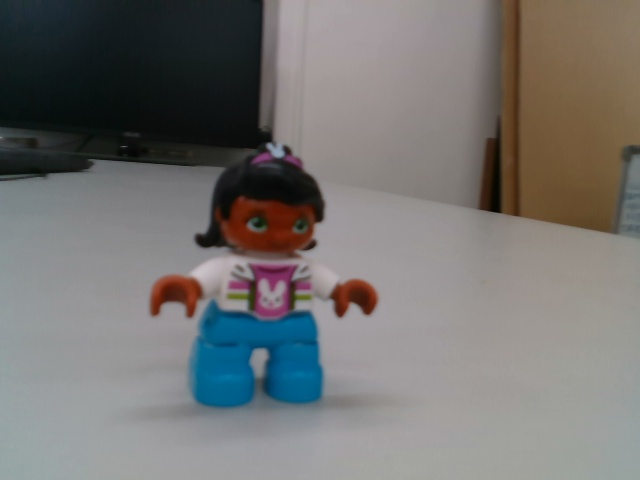people: (146, 138, 385, 408)
